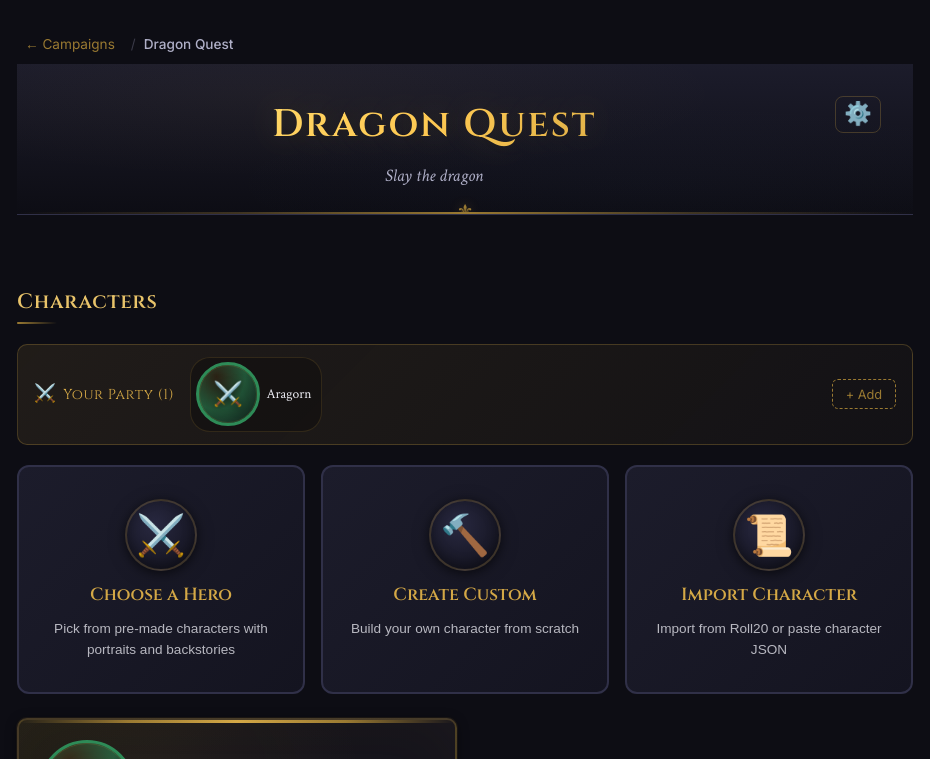
Test: CampaignDetail › shows character picker when premade button is clicked
Expected: the element with test id "mode-chooser" is shown, [17, 465, 913, 694]
Click the button with test id "btn-premade" at [161, 535], box [17, 465, 305, 694]
(page scrolled)
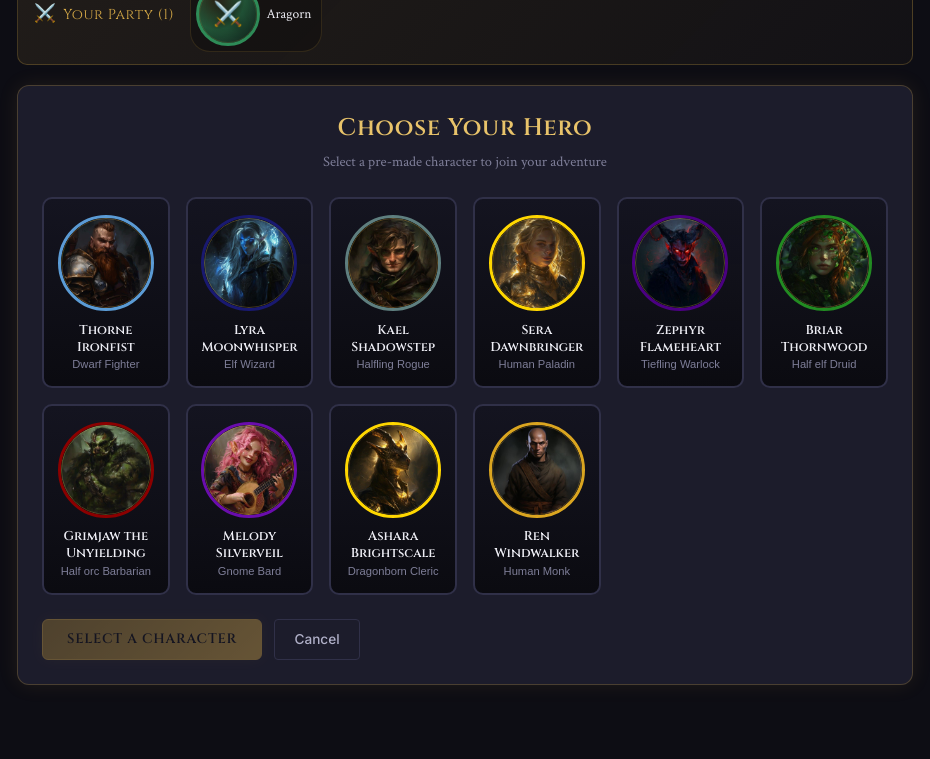
Now the element with test id "character-picker" is shown
